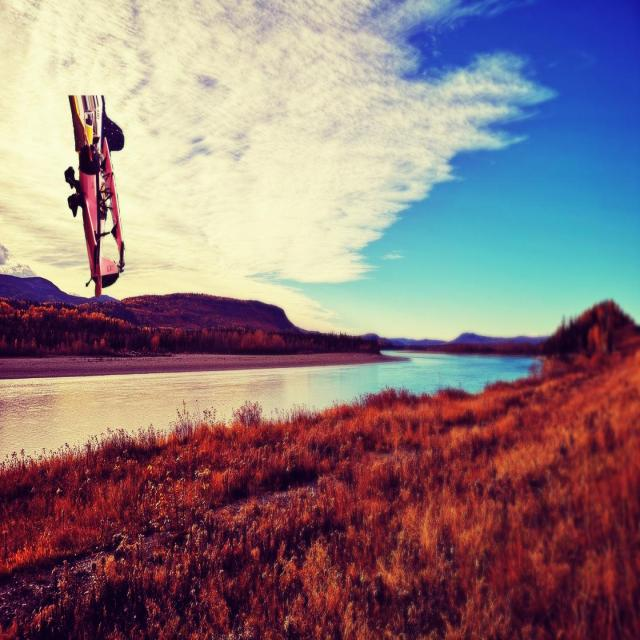airplane: (64, 93, 125, 298)
